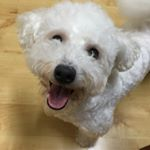puppy: (15, 1, 126, 150)
